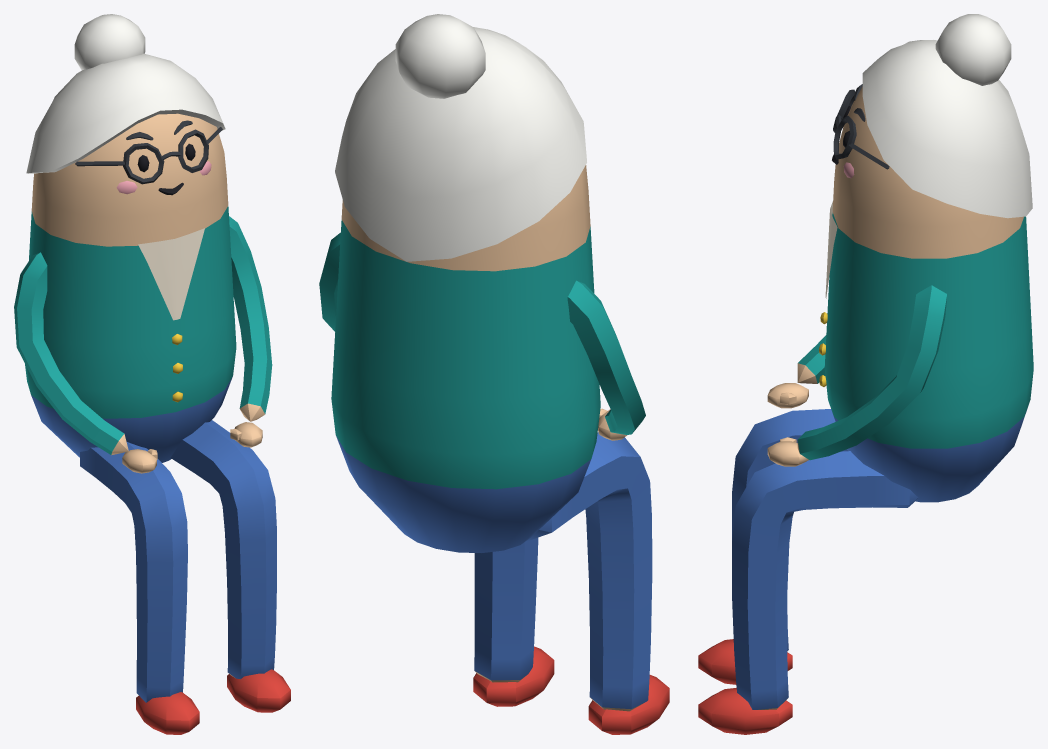
Rendered from PasajeroAbuela.fbx.
3 views of the same model, side by side, from view 1: azimuth 30°, elevation 25°; view 2: azimuth 150°, elevation 25°; view 3: azimuth 270°, elevation 25° (orthographic). The views are drawn at different scales.
Parts seen in each view (by area): view 1: PasajeroAbuela; view 2: PasajeroAbuela; view 3: PasajeroAbuela.
Part boxes in pixels (box(x1,y1,x2,y2)): PasajeroAbuela: box(14, 14, 290, 734); PasajeroAbuela: box(319, 14, 669, 734); PasajeroAbuela: box(698, 14, 1033, 734).
Size of the model in its own units: 2.11 by 5.17 by 2.3.
1 material, 1 textured.
